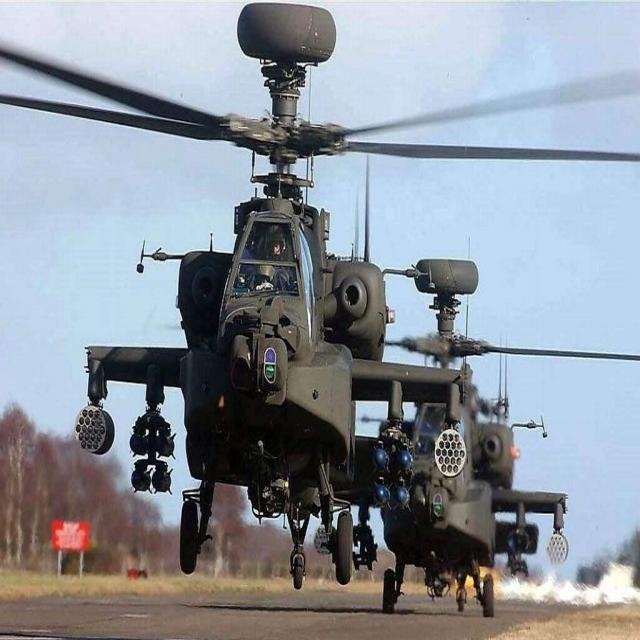MIL_HELO: (7, 0, 640, 577), (332, 338, 592, 614)
